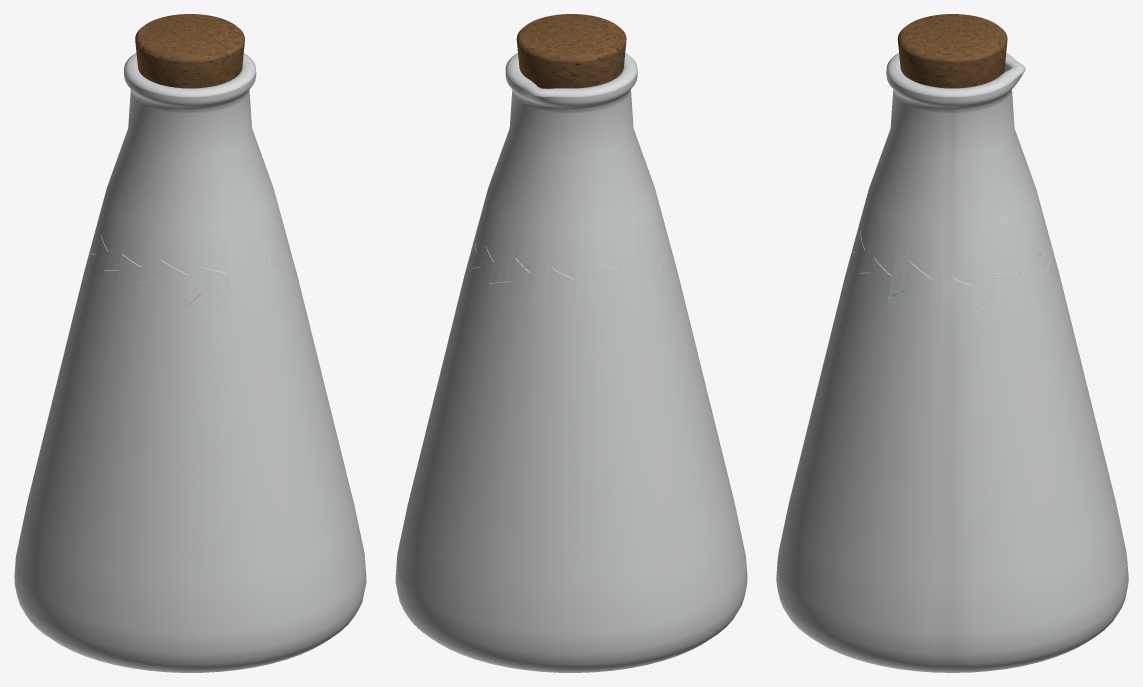
The model's file is bottle_erlenmeyer_broken.glb.
The picture shows the model from 3 angles, left to right: view 1: azimuth 30°, elevation 25°; view 2: azimuth 150°, elevation 25°; view 3: azimuth 270°, elevation 25°; orthographic projection.
Parts seen in each view (by area): view 1: Glass.001, Neck, Cap; view 2: Glass.001, Neck, Cap; view 3: Glass.001, Neck, Cap.
Part boxes in pixels (left/top/right/bottom): Glass.001: left=14, top=225, right=366, bottom=672; Neck: left=90, top=53, right=292, bottom=304; Cap: left=135, top=14, right=244, bottom=88; Glass.001: left=395, top=234, right=747, bottom=672; Neck: left=473, top=53, right=669, bottom=302; Cap: left=516, top=14, right=626, bottom=88; Glass.001: left=776, top=231, right=1128, bottom=672; Neck: left=852, top=53, right=1053, bottom=312; Cap: left=897, top=14, right=1007, bottom=88.
Size of the model in its own units: 0.1051 by 0.1884 by 0.1053.
3 materials, 1 textured.
